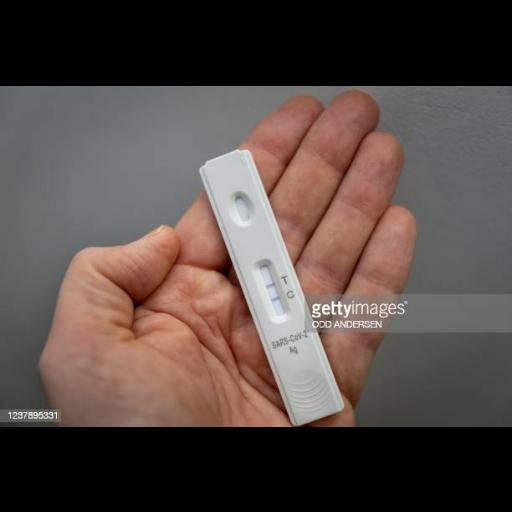Pos: (200, 147, 346, 426)
